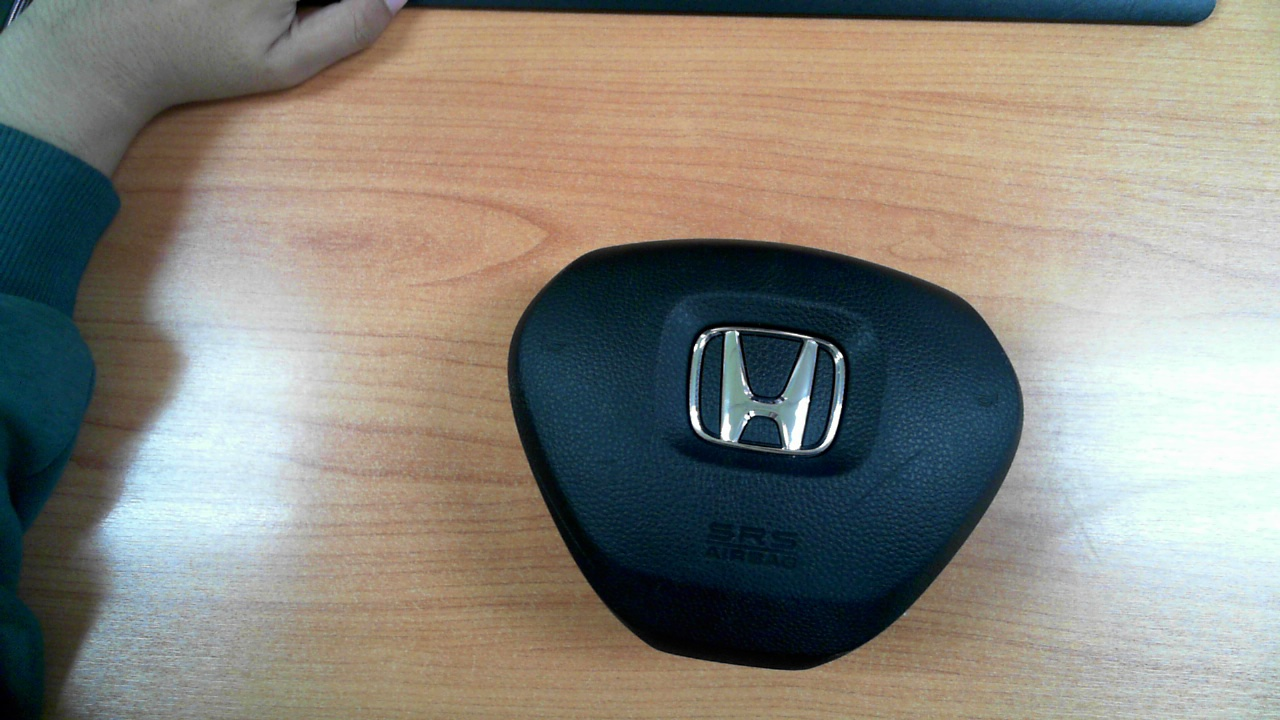Airbag: (506, 239, 1025, 671)
Honda: (688, 326, 846, 456)
